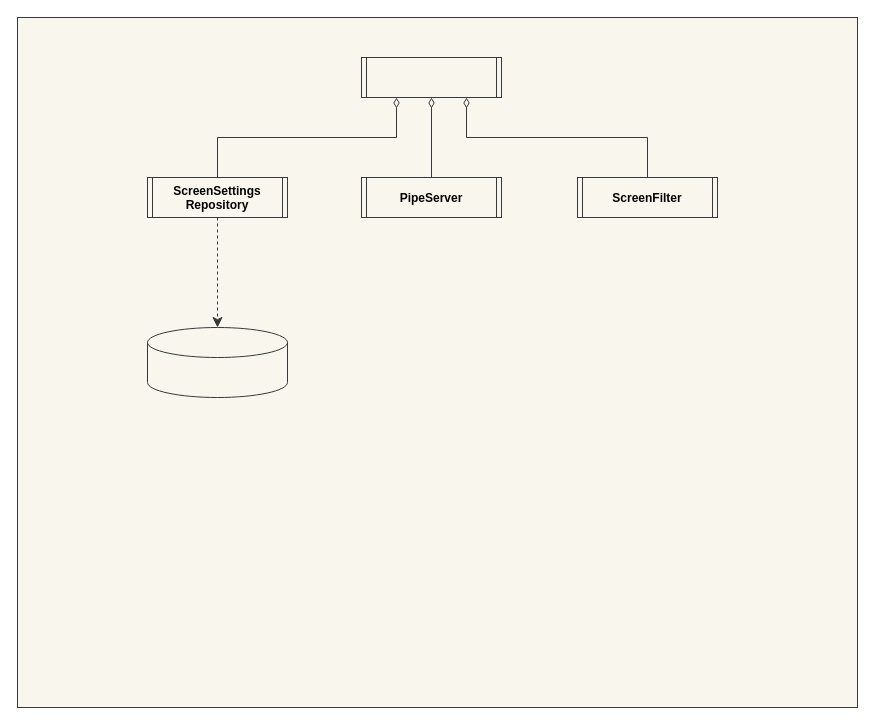
This 875x725 diagram has some shape labels left out. The shapes that lost their labels are listed below. From the top down, each one's box as (x1, y1, x2, y2) in pixels, then its label:
(360, 56, 502, 98): ScreenController
(146, 326, 288, 398): screen.json
